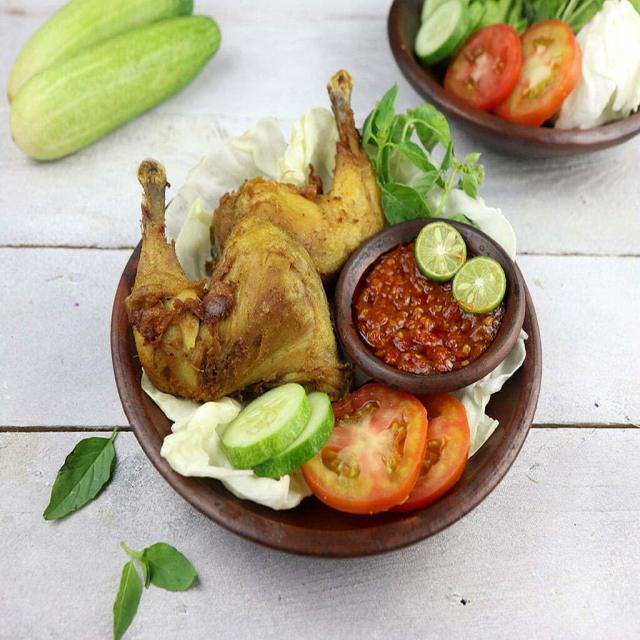ayam_goreng: (119, 129, 382, 390)
